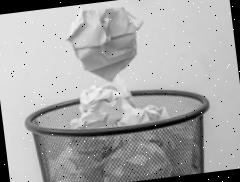paper: (62, 0, 150, 86), (64, 70, 170, 132)
